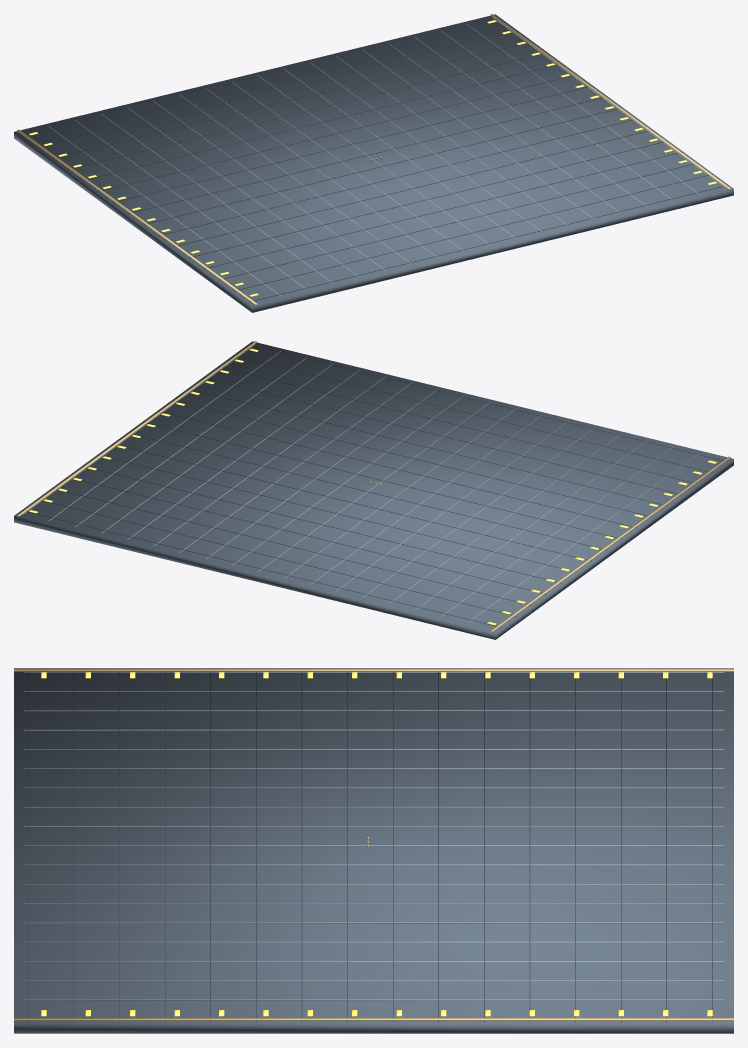
The model's file is 00_L92_AsteroidSamplingMissionDeck.fbx.
The picture shows the model from 3 angles, top to bottom: view 1: azimuth 30°, elevation 25°; view 2: azimuth 150°, elevation 25°; view 3: azimuth 270°, elevation 25°; orthographic projection. The views are drawn at different scales.
Visible parts, largest first — view 1: L92_AsteroidSamplingMissionDe_Part_0000, L92_AsteroidSamplingMissionDe_Part_0003, L92_AsteroidSamplingMissionDe_Part_0001, L92_AsteroidSamplingMissionDe_Part_0004; view 2: L92_AsteroidSamplingMissionDe_Part_0000, L92_AsteroidSamplingMissionDe_Part_0003, L92_AsteroidSamplingMissionDe_Part_0001, L92_AsteroidSamplingMissionDe_Part_0004; view 3: L92_AsteroidSamplingMissionDe_Part_0000, L92_AsteroidSamplingMissionDe_Part_0001, L92_AsteroidSamplingMissionDe_Part_0003, L92_AsteroidSamplingMissionDe_Part_0004, L92_AsteroidSamplingMissionDe_Part_0005.
Boxes of the visible parts, x1,y1,x2,y2 form: L92_AsteroidSamplingMissionDe_Part_0000: (14,14,733,312); L92_AsteroidSamplingMissionDe_Part_0003: (22,19,727,302); L92_AsteroidSamplingMissionDe_Part_0001: (48,24,698,296); L92_AsteroidSamplingMissionDe_Part_0004: (17,14,730,304); L92_AsteroidSamplingMissionDe_Part_0000: (14,341,733,639); L92_AsteroidSamplingMissionDe_Part_0003: (22,344,727,627); L92_AsteroidSamplingMissionDe_Part_0001: (49,351,699,623); L92_AsteroidSamplingMissionDe_Part_0004: (17,341,730,631); L92_AsteroidSamplingMissionDe_Part_0000: (14,668,733,1033); L92_AsteroidSamplingMissionDe_Part_0001: (23,672,724,1000); L92_AsteroidSamplingMissionDe_Part_0003: (28,671,712,1022); L92_AsteroidSamplingMissionDe_Part_0004: (14,669,733,1020); L92_AsteroidSamplingMissionDe_Part_0005: (41,672,712,1016).
Bounding box in the file's own units: 35 × 0.695 × 30.
